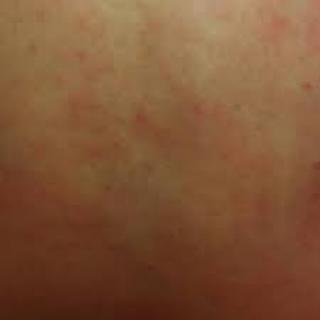urticaria: (52, 191, 230, 312), (132, 86, 270, 184), (68, 48, 114, 72), (299, 73, 316, 94)
